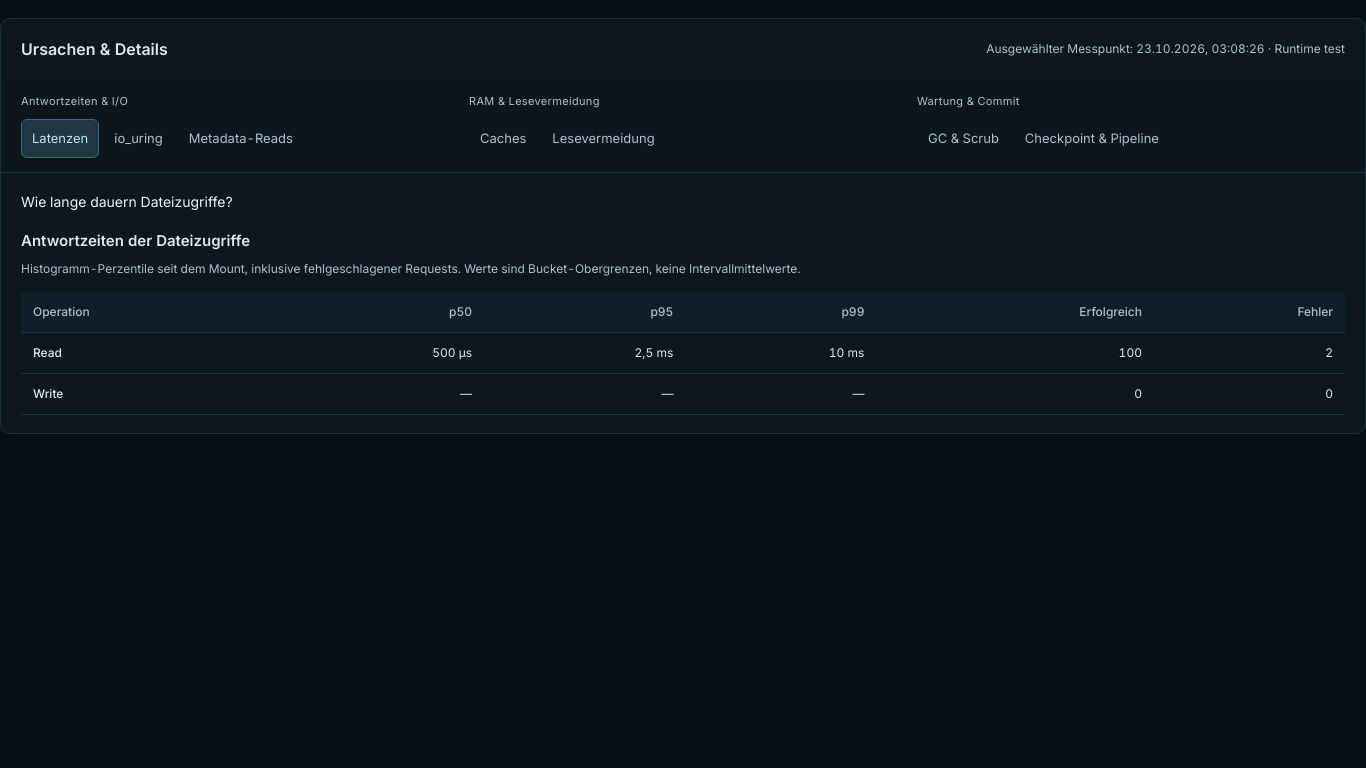
Scenario: switches cache counters to the five-minute window without changing RAM gauges
The width and height of the screenshot is (1366, 768).
Click the tab "Caches".
click(503, 138)  # box [469,118,537,158]
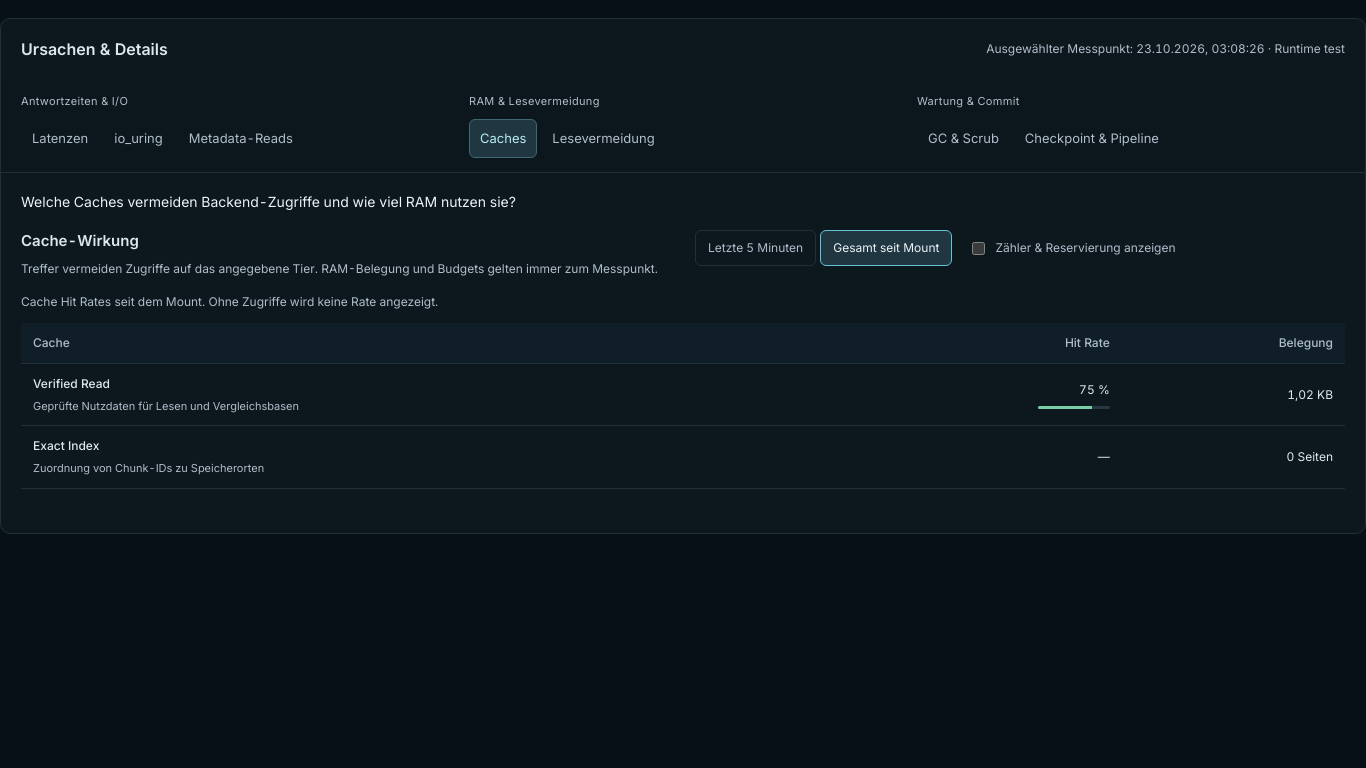
Expected: the text "75 %" is shown, [1038,381,1110,409]
Click the button "Letzte 5 Minuten".
click(756, 248)  # box [695,230,816,266]
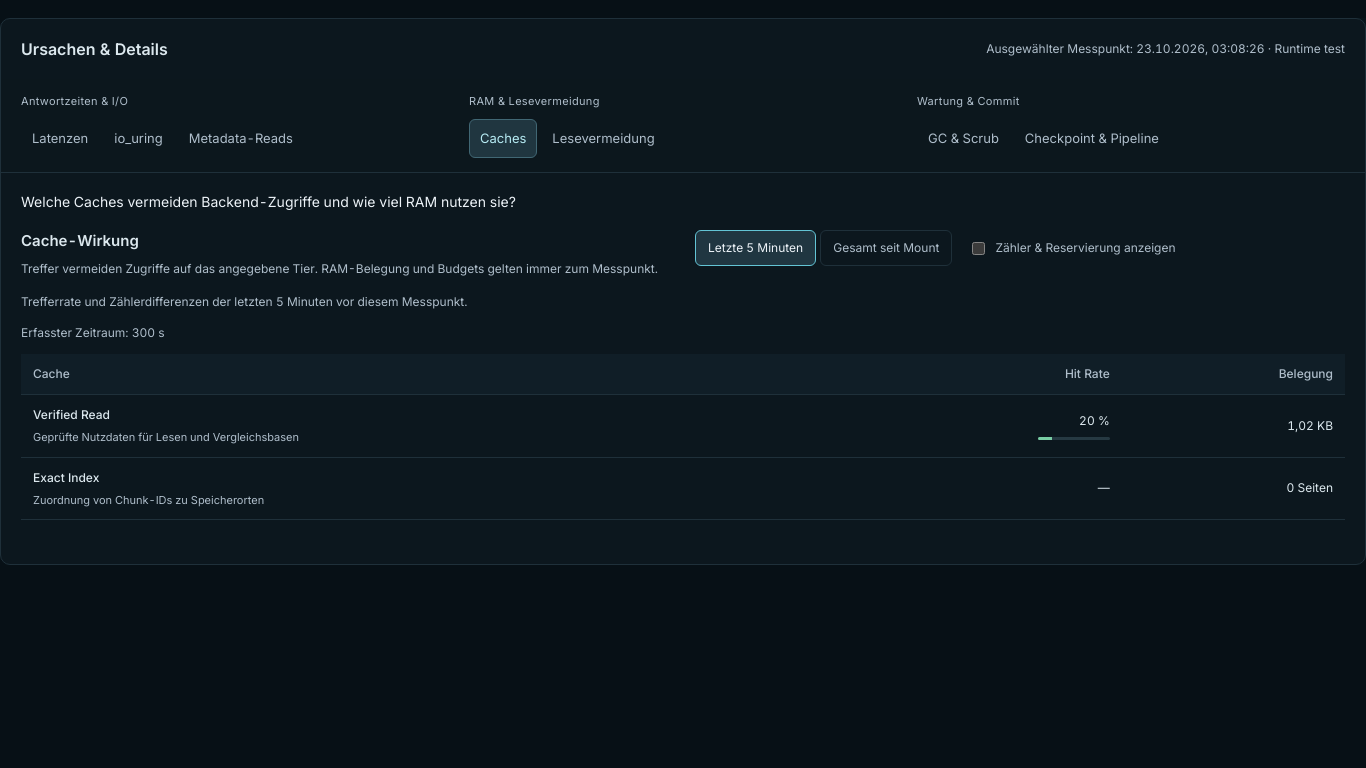
Expected: the text "1,02 KB" is shown, [1122,395,1345,457]
Expected: the text "20 %" is shown, [1038,412,1110,440]
Expected: the text "Erfasster Zeitraum: 300 s" is shown, [21,325,165,340]
Click the button "Gesamt seit Mount".
click(886, 248)  # box [820,230,952,266]
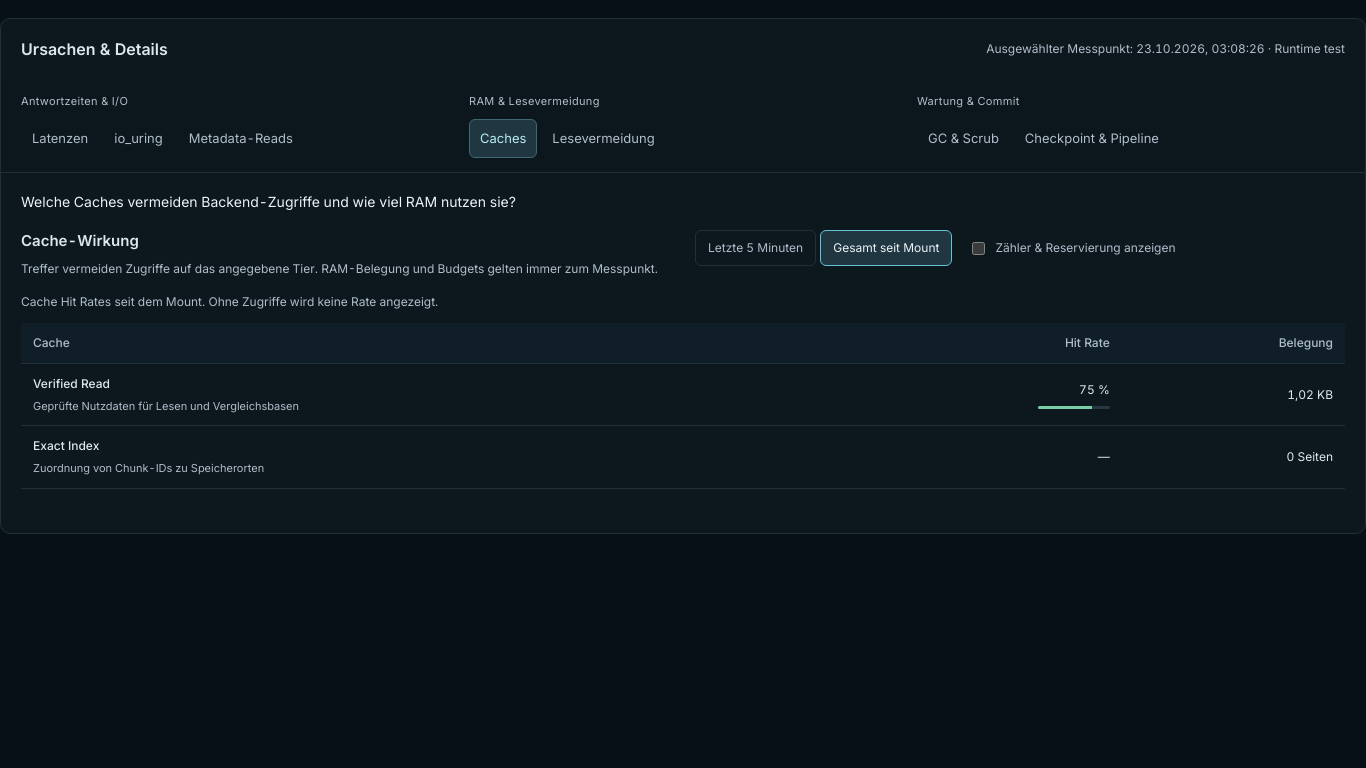
Expected: the text "75 %" is shown, [1038,381,1110,409]
